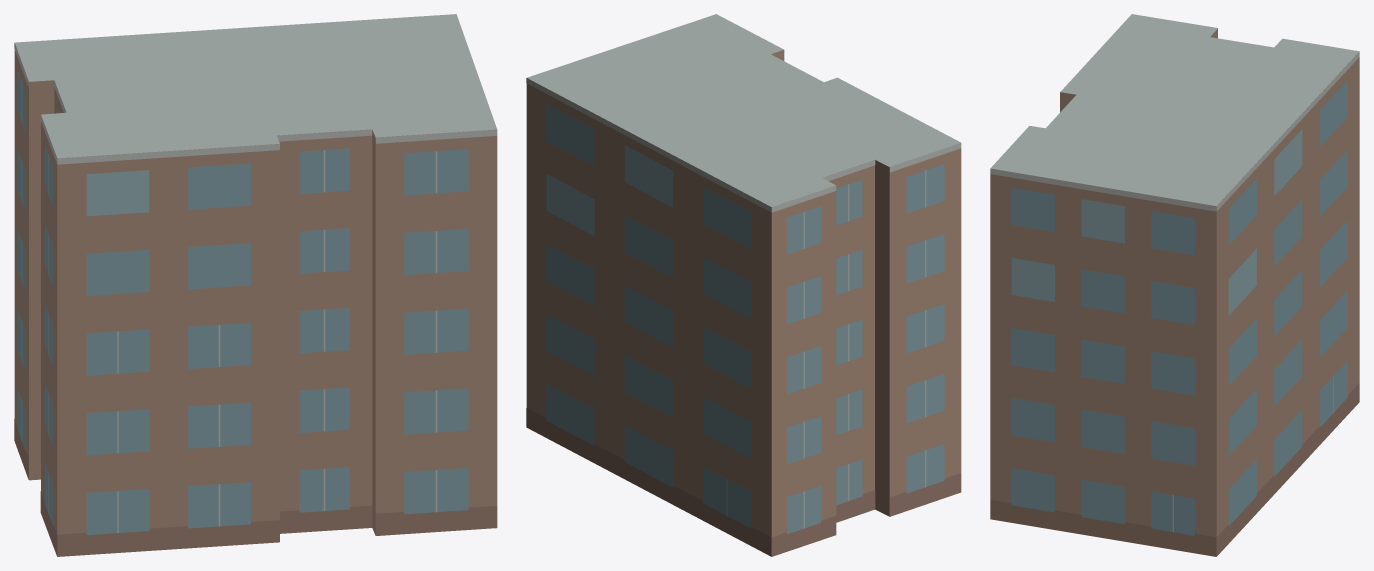
File: survey-upis-32959168.glb
3 renders of one model, left to right at view 1: azimuth 30°, elevation 25°; view 2: azimuth 150°, elevation 25°; view 3: azimuth 270°, elevation 25°, orthographic. The views are drawn at different scales.
Parts seen in each view (by area): view 1: survey-upis-32959168.tmp; view 2: survey-upis-32959168.tmp; view 3: survey-upis-32959168.tmp.
Part boxes in pixels (x1,y1,x2,y2): survey-upis-32959168.tmp: (14, 14, 497, 556); survey-upis-32959168.tmp: (526, 14, 961, 556); survey-upis-32959168.tmp: (990, 14, 1359, 556).
Bounding box in the file's own units: 18.22 × 15.5 × 14.8.
